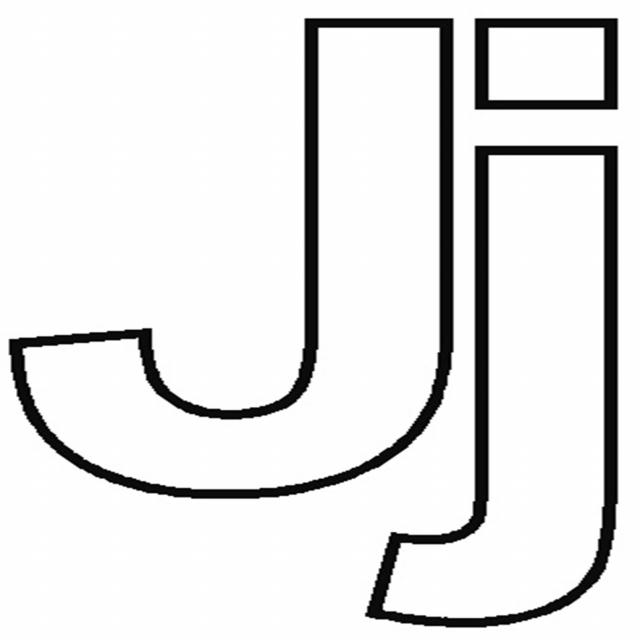J: (11, 8, 465, 527)
